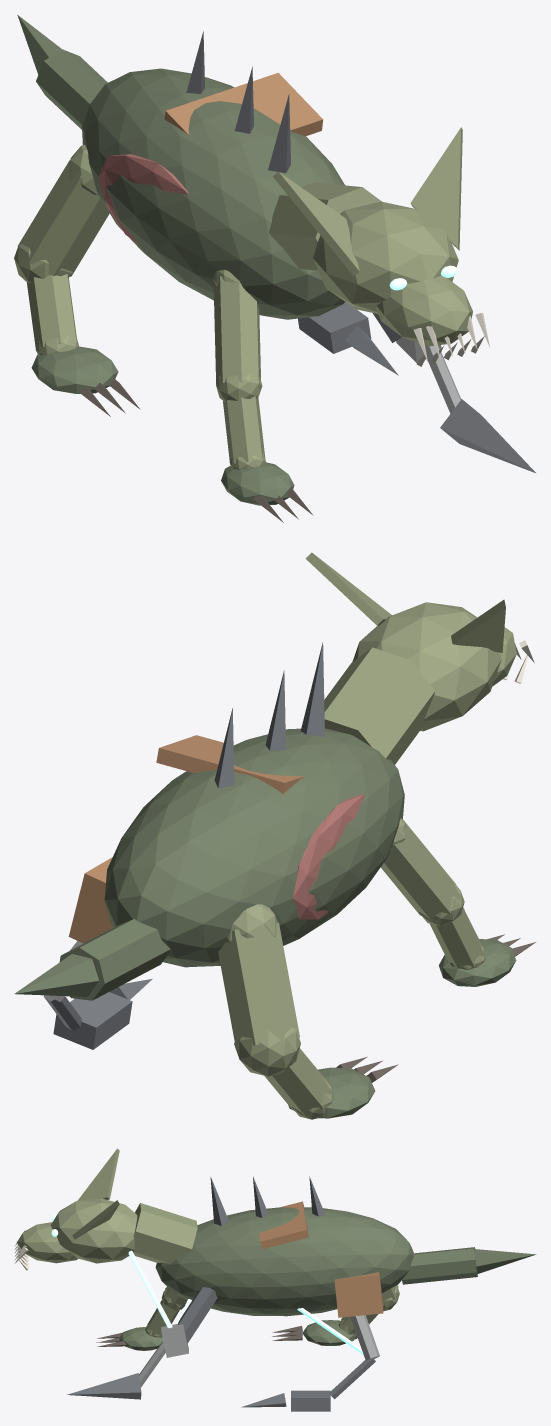
The model's file is 02_scrap_stalker.glb.
The picture shows the model from 3 angles, top to bottom: view 1: azimuth 30°, elevation 25°; view 2: azimuth 150°, elevation 25°; view 3: azimuth 270°, elevation 25°; orthographic projection. The views are drawn at different scales.
Visible parts, largest first — view 1: patchy_canine_torso, angular_stalker_head, left_hind_thigh, left_front_muscle_upper, long_predator_muzzle, corded_neck, asymmetric_spine_scrap_plate, left_hind_shin, ragged_ear_1, taut_scavenger_tail_base, left_hind_paw, left_front_muscle_lower (+11 smaller); view 2: patchy_canine_torso, left_hind_thigh, angular_stalker_head, corded_neck, left_front_muscle_upper, taut_scavenger_tail_base, rib_muscle_exposure_left, right_hind_spring_foot, left_hind_shin, asymmetric_spine_scrap_plate, right_hydraulic_thigh_armor, taut_scavenger_tail_tip (+9 smaller); view 3: patchy_canine_torso, angular_stalker_head, corded_neck, taut_scavenger_tail_base, right_hydraulic_thigh_armor, long_predator_muzzle, asymmetric_spine_scrap_plate, bladed_prosthetic_forelimb, right_front_scrap_upper_strut, ragged_ear_-1, right_hind_spring_foot, taut_scavenger_tail_tip (+14 smaller).
Boxes of the visible parts, box(x1,y1,x2,y2) form: patchy_canine_torso: box(82, 68, 344, 319); angular_stalker_head: box(313, 201, 458, 313); left_hind_thigh: box(14, 144, 109, 282); left_front_muscle_upper: box(213, 269, 262, 402); long_predator_muzzle: box(376, 275, 472, 346); corded_neck: box(269, 182, 381, 271); asymmetric_spine_scrap_plate: box(164, 72, 323, 136); left_hind_shin: box(26, 274, 78, 355); ragged_ear_1: box(410, 127, 462, 250); taut_scavenger_tail_base: box(36, 49, 107, 129); left_hind_paw: box(31, 346, 118, 393); left_front_muscle_lower: box(223, 396, 266, 469); patchy_canine_torso: box(104, 728, 404, 967); left_hind_thigh: box(218, 904, 300, 1076); angular_stalker_head: box(352, 602, 501, 731); corded_neck: box(324, 647, 435, 764); left_front_muscle_upper: box(380, 818, 464, 925); taut_scavenger_tail_base: box(59, 919, 170, 1000); rib_muscle_exposure_left: box(292, 794, 364, 919); right_hind_spring_foot: box(53, 992, 132, 1049); left_hind_shin: box(264, 1048, 333, 1119); asymmetric_spine_scrap_plate: box(156, 735, 304, 794); right_hydraulic_thigh_armor: box(68, 857, 112, 943); taut_scavenger_tail_tip: box(14, 954, 98, 996); patchy_canine_torso: box(155, 1207, 414, 1316); angular_stalker_head: box(50, 1198, 137, 1263); corded_neck: box(133, 1203, 197, 1263); taut_scavenger_tail_base: box(402, 1247, 477, 1284); right_hydraulic_thigh_armor: box(334, 1272, 383, 1317); long_predator_muzzle: box(17, 1222, 78, 1263); asymmetric_spine_scrap_plate: box(259, 1201, 308, 1249); bladed_prosthetic_forelimb: box(67, 1373, 141, 1399); right_front_scrap_upper_strut: box(178, 1287, 217, 1343); ragged_ear_-1: box(77, 1148, 119, 1200); right_hind_spring_foot: box(291, 1390, 330, 1411); taut_scavenger_tail_tip: box(475, 1249, 536, 1273).
Size of the model in its own units: 1.41 by 1.55 by 3.7.
